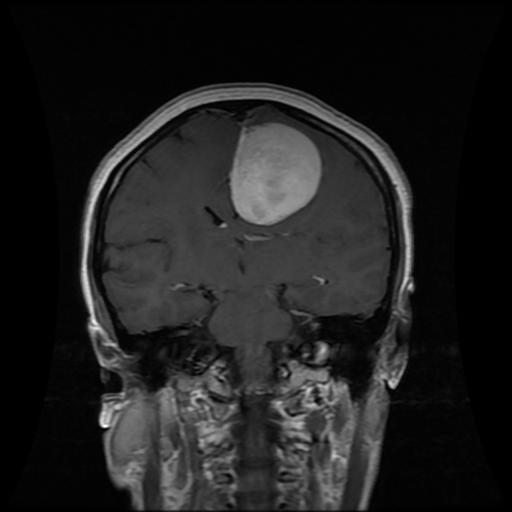Menigiomia_tumour: (230, 122, 321, 225)
